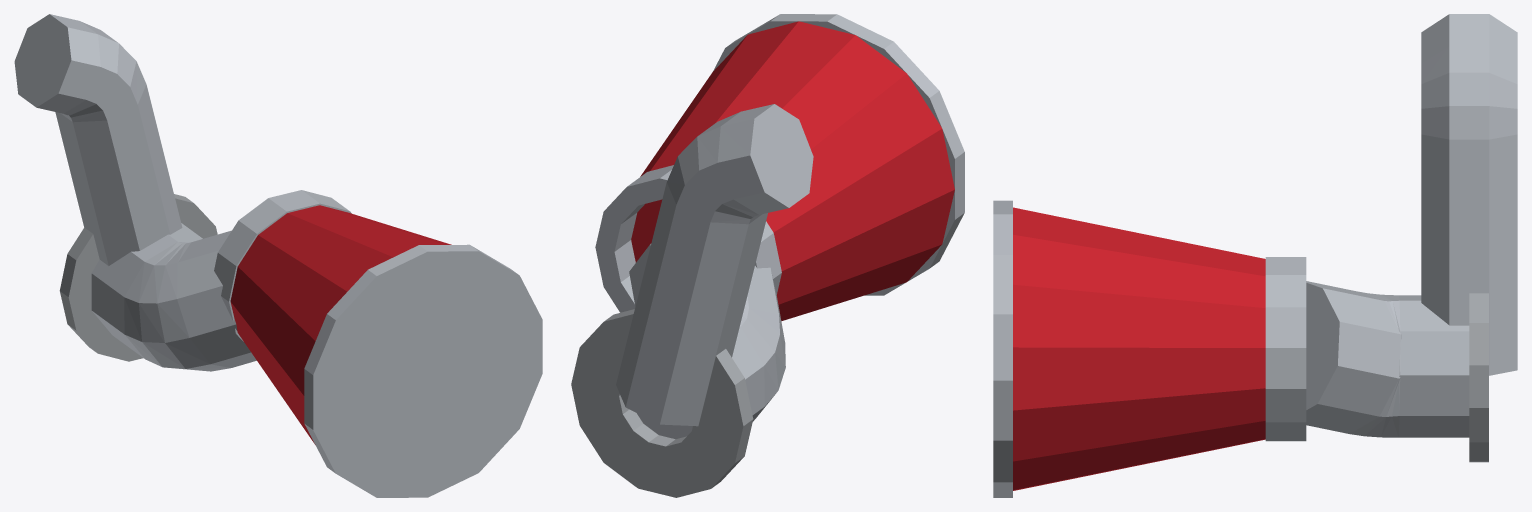
File: hana_roadster.glb
3 views of the same model, side by side, from view 1: azimuth 30°, elevation 25°; view 2: azimuth 150°, elevation 25°; view 3: azimuth 270°, elevation 25° (orthographic). The views are drawn at different scales.
Visible parts, largest first — view 1: model; view 2: model; view 3: model.
Part boxes in pixels (x1,y1,x2,y2): model: (14,14,542,497); model: (571,14,964,497); model: (993,14,1517,497).
Size of the model in its own units: 0.2311 by 0.2655 by 0.3216.
2 materials, 1 textured.
